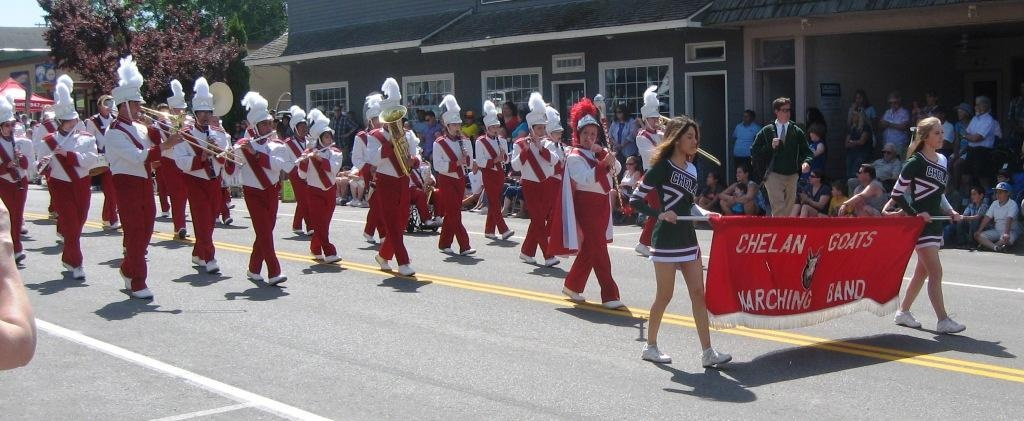human_face: (679, 123, 697, 154), (924, 123, 944, 148), (578, 124, 596, 148), (124, 97, 140, 121), (254, 118, 272, 138), (196, 107, 212, 126), (0, 118, 16, 136), (318, 130, 332, 146), (532, 123, 546, 139), (645, 114, 659, 130), (778, 102, 790, 120), (63, 116, 77, 130), (446, 121, 460, 135), (98, 100, 112, 112), (156, 104, 168, 118), (856, 166, 866, 182), (882, 145, 892, 161), (294, 122, 304, 136), (996, 188, 1006, 202), (173, 104, 183, 118), (488, 123, 498, 136), (552, 130, 562, 142), (625, 158, 635, 170), (888, 97, 898, 109), (969, 188, 979, 200), (209, 116, 219, 128), (808, 131, 818, 141), (268, 120, 278, 130), (502, 103, 510, 115), (614, 107, 622, 119), (706, 172, 714, 184), (736, 167, 744, 179), (808, 171, 816, 183), (414, 130, 422, 142), (977, 103, 985, 114), (850, 110, 858, 121), (332, 106, 340, 116), (424, 115, 432, 125), (742, 112, 750, 122), (956, 107, 964, 117), (806, 111, 814, 120), (854, 94, 862, 102), (240, 120, 248, 128), (433, 130, 441, 138), (498, 128, 506, 136), (404, 122, 410, 132), (830, 185, 836, 195), (926, 94, 932, 104), (996, 173, 1002, 183), (515, 112, 521, 122), (418, 111, 424, 120), (12, 110, 18, 118), (234, 123, 240, 131), (268, 109, 274, 117), (464, 115, 470, 123), (734, 187, 740, 195), (27, 130, 33, 136), (20, 116, 26, 122), (282, 116, 286, 122)
